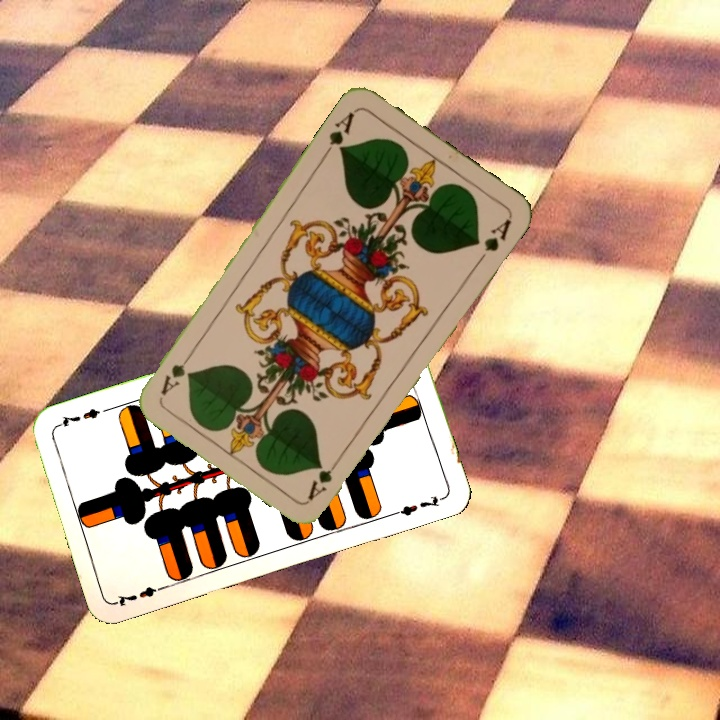E7: (112, 580, 170, 609)
GA: (303, 451, 345, 503), (319, 108, 358, 159)
